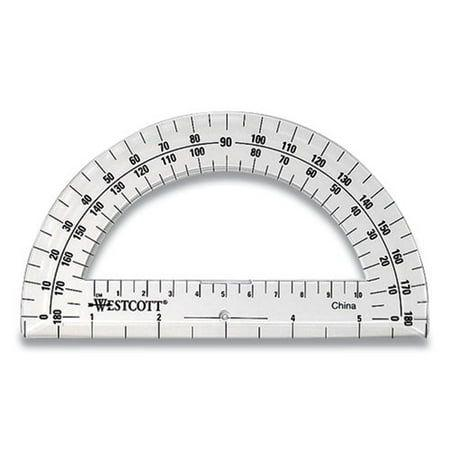PS: (20, 108, 431, 345)
